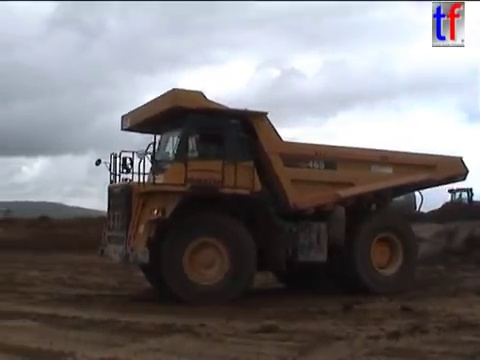truck: (92, 85, 472, 308), (318, 178, 480, 237)
